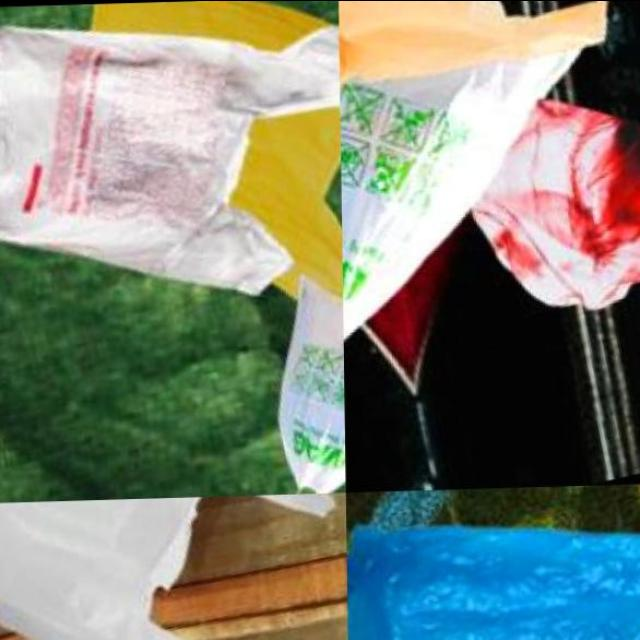plastik: (0, 27, 339, 293), (342, 50, 579, 334), (474, 99, 640, 306), (348, 525, 640, 640), (0, 497, 198, 640), (339, 0, 608, 82), (279, 280, 344, 493)
